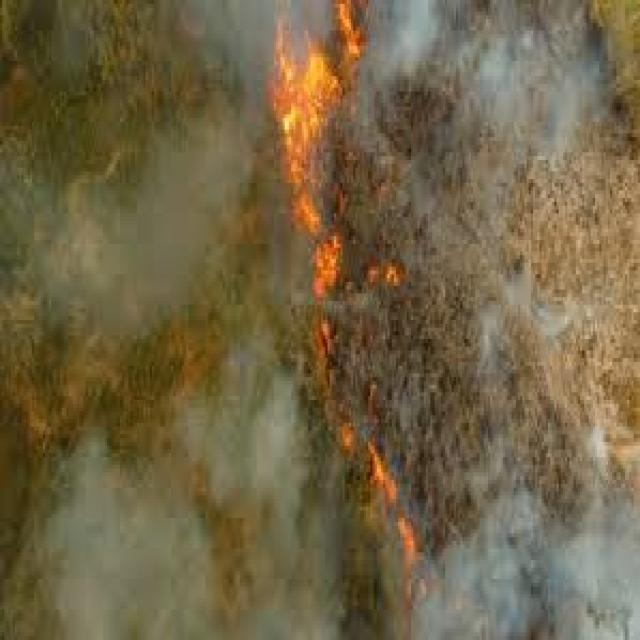Fire: (270, 0, 405, 326), (302, 328, 428, 584)
Smoke: (369, 0, 628, 262), (175, 346, 340, 640), (430, 412, 640, 636), (144, 0, 268, 328), (25, 402, 176, 640), (0, 125, 143, 350), (452, 256, 624, 406)
